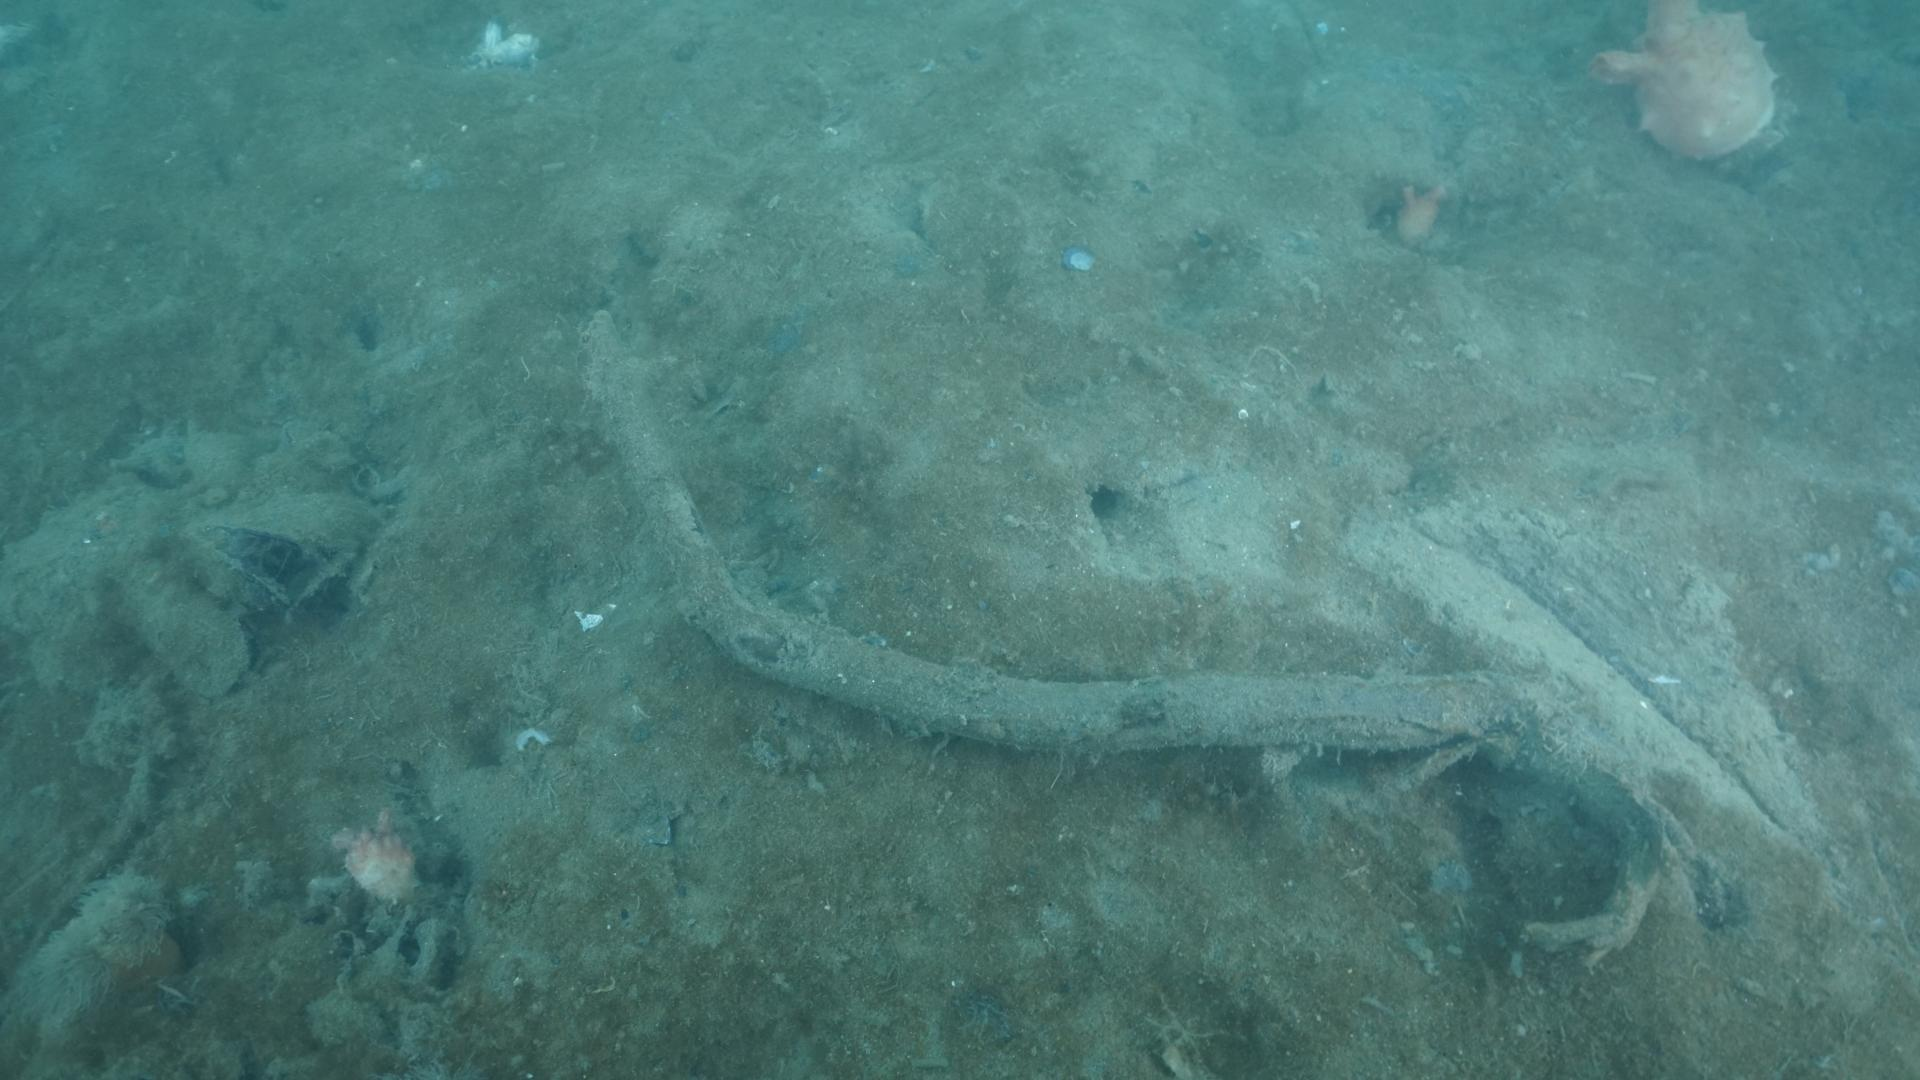wood: (579, 309, 1695, 963)
